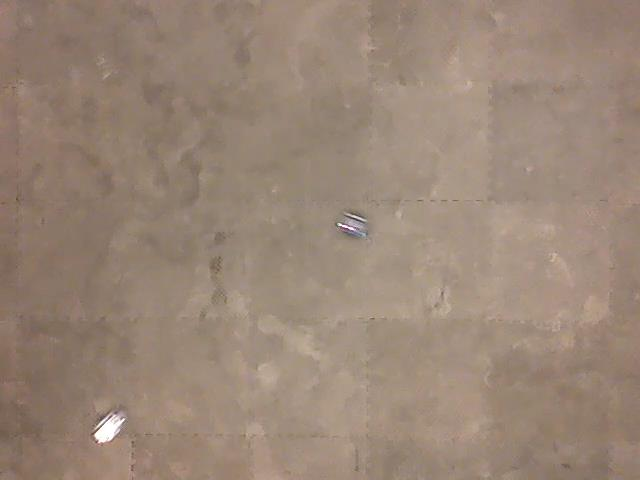Agent: (88, 407, 132, 446), (332, 208, 370, 240)
